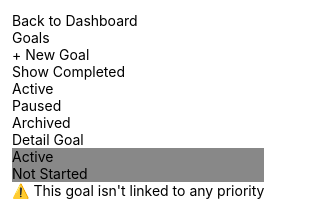
Test: GoalsScreen › Detail View › goes back to list when back button pressed
The image size is (332, 216).
Click the button with aria-label "Goal: Detail Goal": {"x": 138, "y": 165} [12,131,264,199]
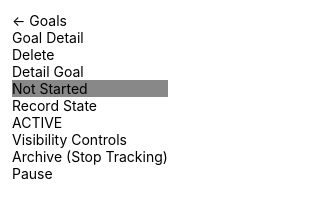
Expected: the text "Goal Detail" is shown, [12,29,84,46]
Click the button with aria-label "Back to goals list": {"x": 90, "y": 20} [12,12,168,29]
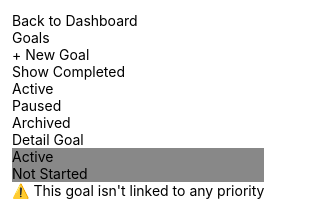
Expected: the text "Goals" is shown, [12,29,50,46]
Expected: the text "Goal Detail" is gone
